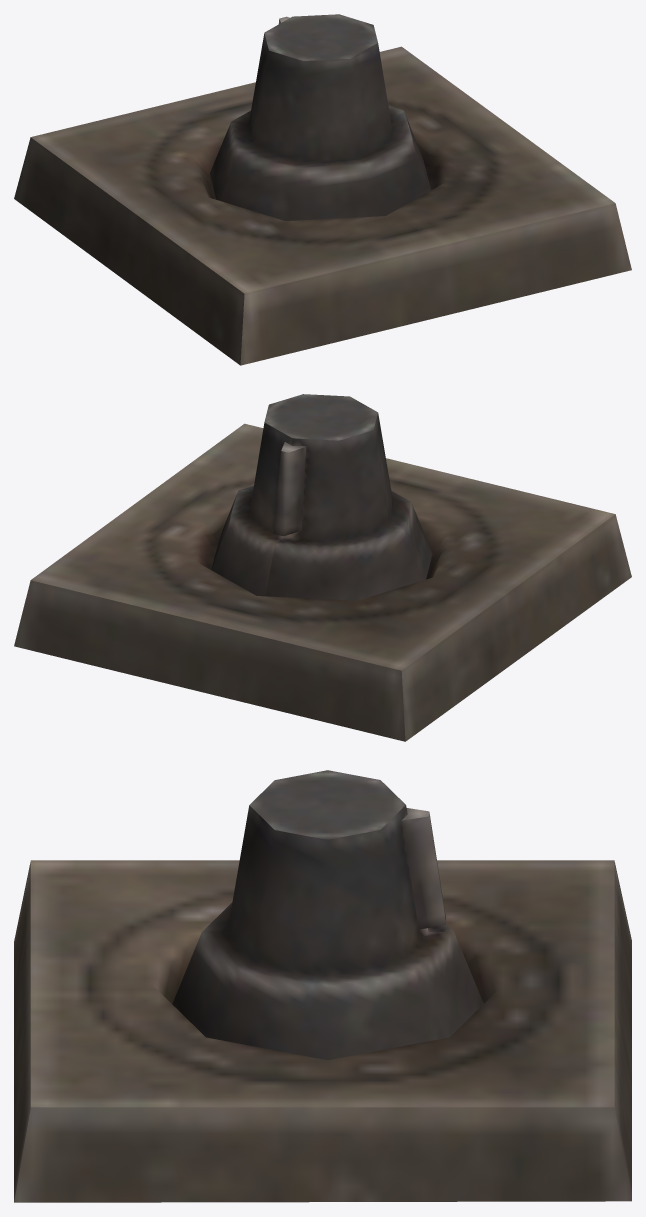
Rendered from computer_parts_knob.dae.
The picture shows the model from 3 angles, top to bottom: view 1: azimuth 30°, elevation 25°; view 2: azimuth 150°, elevation 25°; view 3: azimuth 270°, elevation 25°; orthographic projection. The views are drawn at different scales.
Parts seen in each view (by area): view 1: computer_parts_knob; view 2: computer_parts_knob; view 3: computer_parts_knob.
Part boxes in pixels (box(x1,y1,x2,y2)): computer_parts_knob: box(14, 14, 631, 365); computer_parts_knob: box(14, 394, 631, 741); computer_parts_knob: box(14, 770, 631, 1202).
Bounding box in the file's own units: 0.2062 × 0.0987 × 0.2067.
